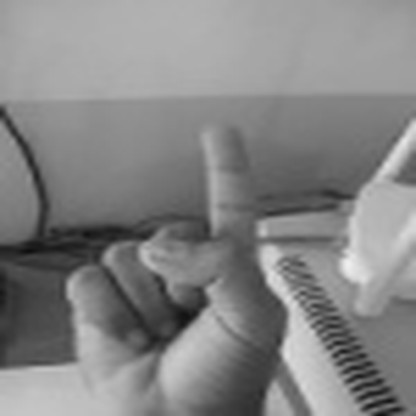d: (63, 104, 292, 416)
